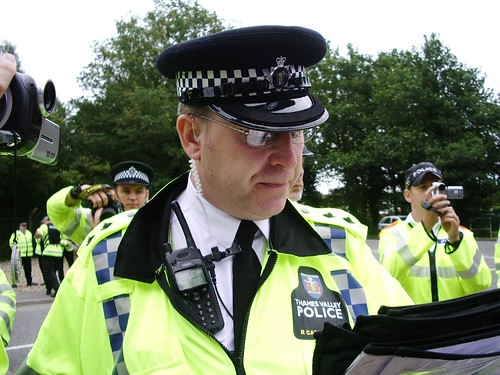camera: (1, 68, 66, 166), (430, 180, 474, 208)
policeman: (53, 31, 382, 375), (382, 160, 493, 306), (48, 160, 153, 237)
tree: (63, 4, 226, 173), (335, 52, 500, 196)
